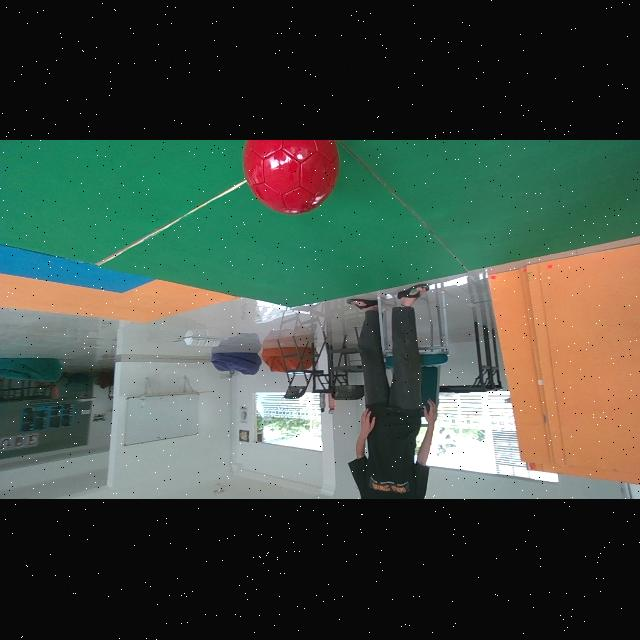R: (243, 141, 340, 216)
